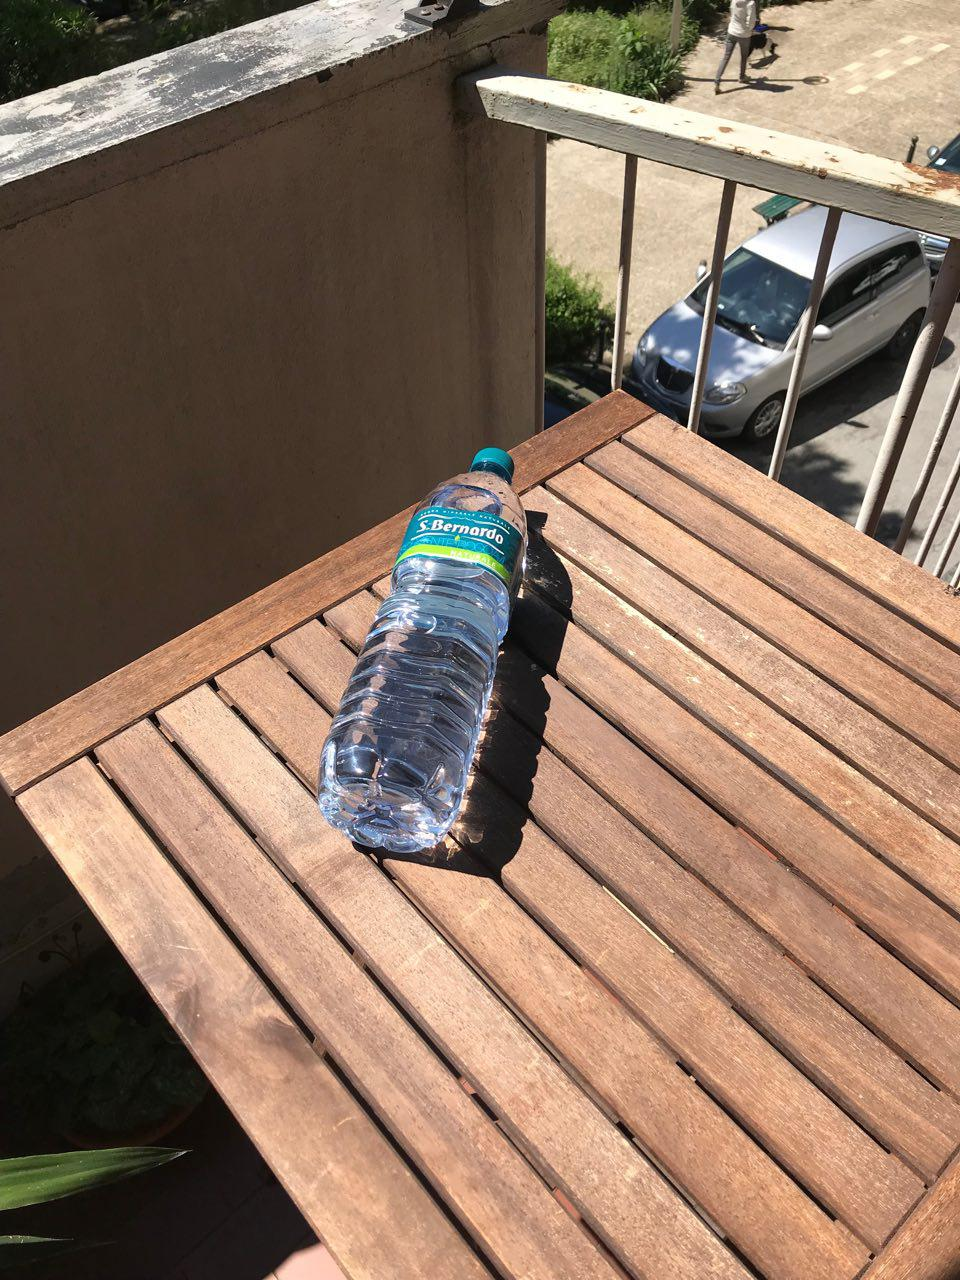san_bernardo: (314, 445, 528, 854)
